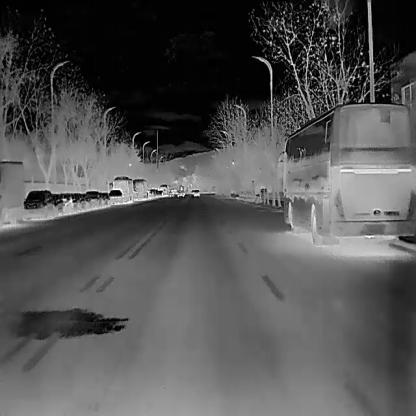bus: (276, 101, 414, 247), (110, 174, 132, 204), (131, 176, 147, 201), (158, 184, 168, 196)
car: (23, 188, 54, 218), (50, 193, 63, 216), (59, 192, 72, 213), (84, 190, 100, 207), (107, 188, 122, 204), (70, 193, 81, 211), (80, 192, 90, 210), (98, 191, 110, 205), (192, 188, 200, 197)
truck: (0, 159, 25, 229)
